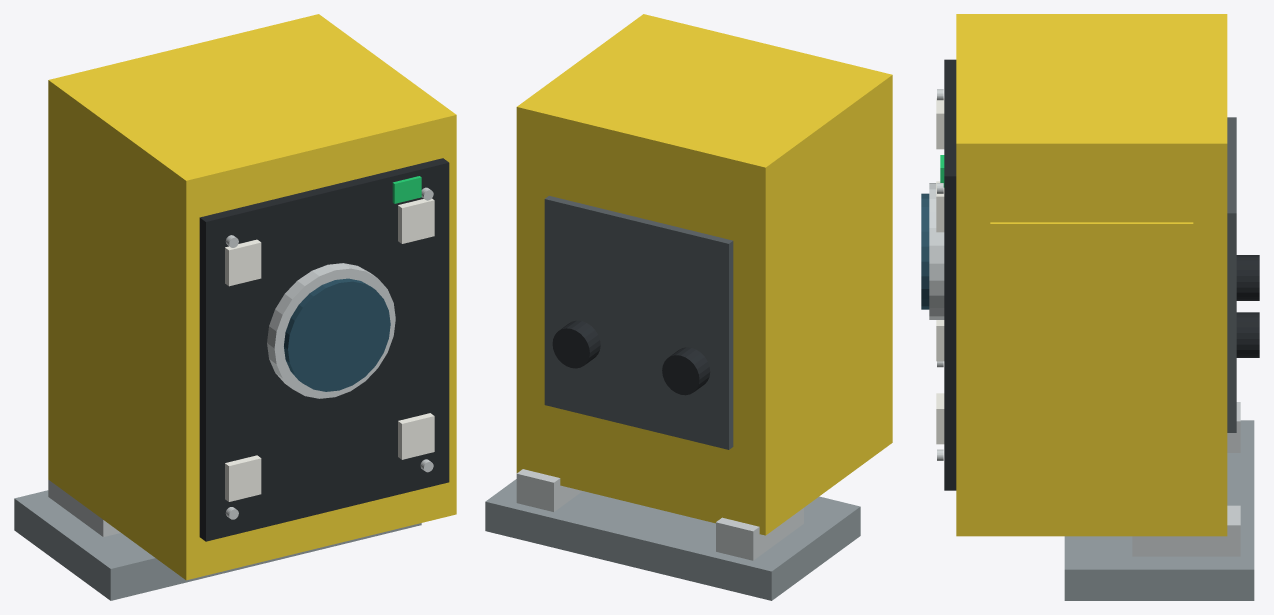
The picture shows the model from 3 angles, left to right: view 1: azimuth 30°, elevation 25°; view 2: azimuth 150°, elevation 25°; view 3: azimuth 270°, elevation 25°; orthographic projection. The views are drawn at different scales.
Visible parts, largest first — view 1: housing, front bezel, optical lens, Mount bracket, lens surround, illumination emitter.002, illumination emitter, illumination emitter.003, illumination emitter.001, mounting flange, status indicator; view 2: housing, Rear connector plate, Mount bracket, mounting flange, mounting flange.001, Electrical connector, Electrical connector.001; view 3: housing, yellow side band, Mount bracket, front bezel, Rear connector plate, mounting flange.001, lens surround, Electrical connector, Electrical connector.001, optical lens, illumination emitter.002, illumination emitter.001.
Boxes of the visible parts, x1,y1,x2,y2 form: housing: [48, 14, 456, 580]; front bezel: [199, 158, 449, 541]; optical lens: [284, 278, 390, 391]; Mount bracket: [14, 490, 421, 600]; lens surround: [267, 263, 395, 398]; illumination emitter.002: [398, 413, 434, 459]; illumination emitter: [225, 455, 261, 501]; illumination emitter.003: [398, 198, 434, 243]; illumination emitter.001: [225, 239, 261, 286]; mounting flange: [48, 480, 120, 536]; status indicator: [392, 176, 421, 203]; housing: [516, 14, 892, 535]; Rear connector plate: [544, 196, 733, 449]; Mount bracket: [485, 479, 860, 600]; mounting flange: [716, 508, 803, 560]; mounting flange.001: [516, 469, 582, 511]; Electrical connector: [662, 347, 710, 395]; Electrical connector.001: [552, 320, 600, 368]; housing: [956, 14, 1227, 536]; yellow side band: [990, 222, 1193, 459]; Mount bracket: [1064, 420, 1254, 600]; front bezel: [944, 59, 956, 490]; Rear connector plate: [1227, 117, 1236, 432]; mounting flange.001: [1132, 505, 1240, 556]; lens surround: [929, 183, 944, 319]; Electrical connector: [1236, 255, 1259, 300]; Electrical connector.001: [1236, 312, 1259, 357]; optical lens: [921, 193, 929, 309]; illumination emitter.002: [936, 393, 944, 444]; illumination emitter.001: [936, 98, 944, 149].
Bounding box in the file's own units: 0.1955 × 0.2736 × 0.1875.
